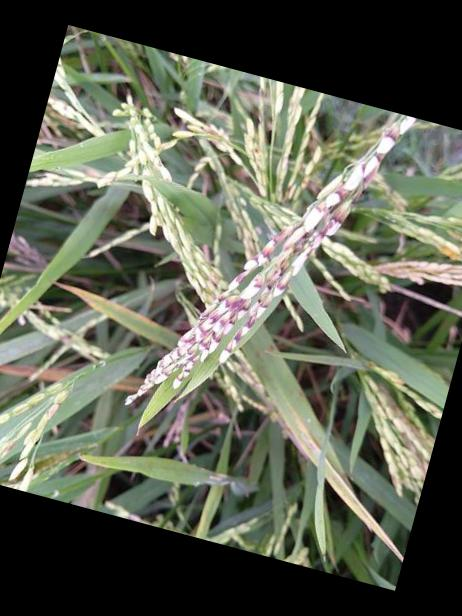Panicle Blight: (124, 121, 416, 407)
